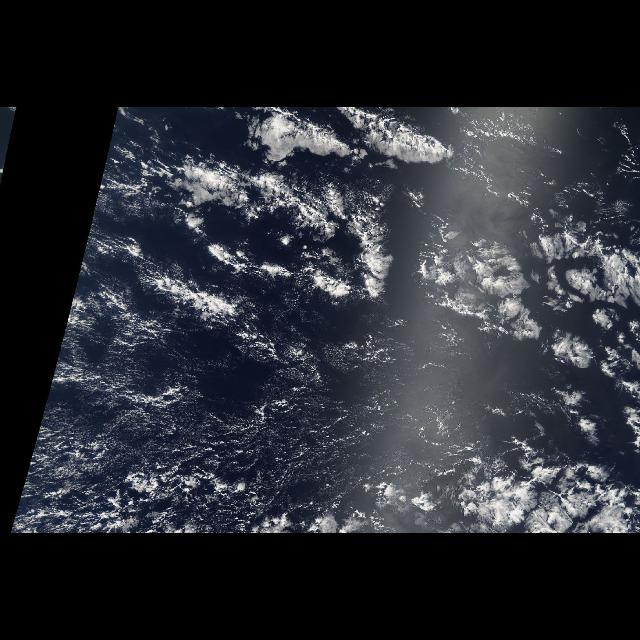Flower: (135, 107, 640, 533)
Gravel: (8, 422, 312, 534)
Sugar: (35, 286, 458, 532)
